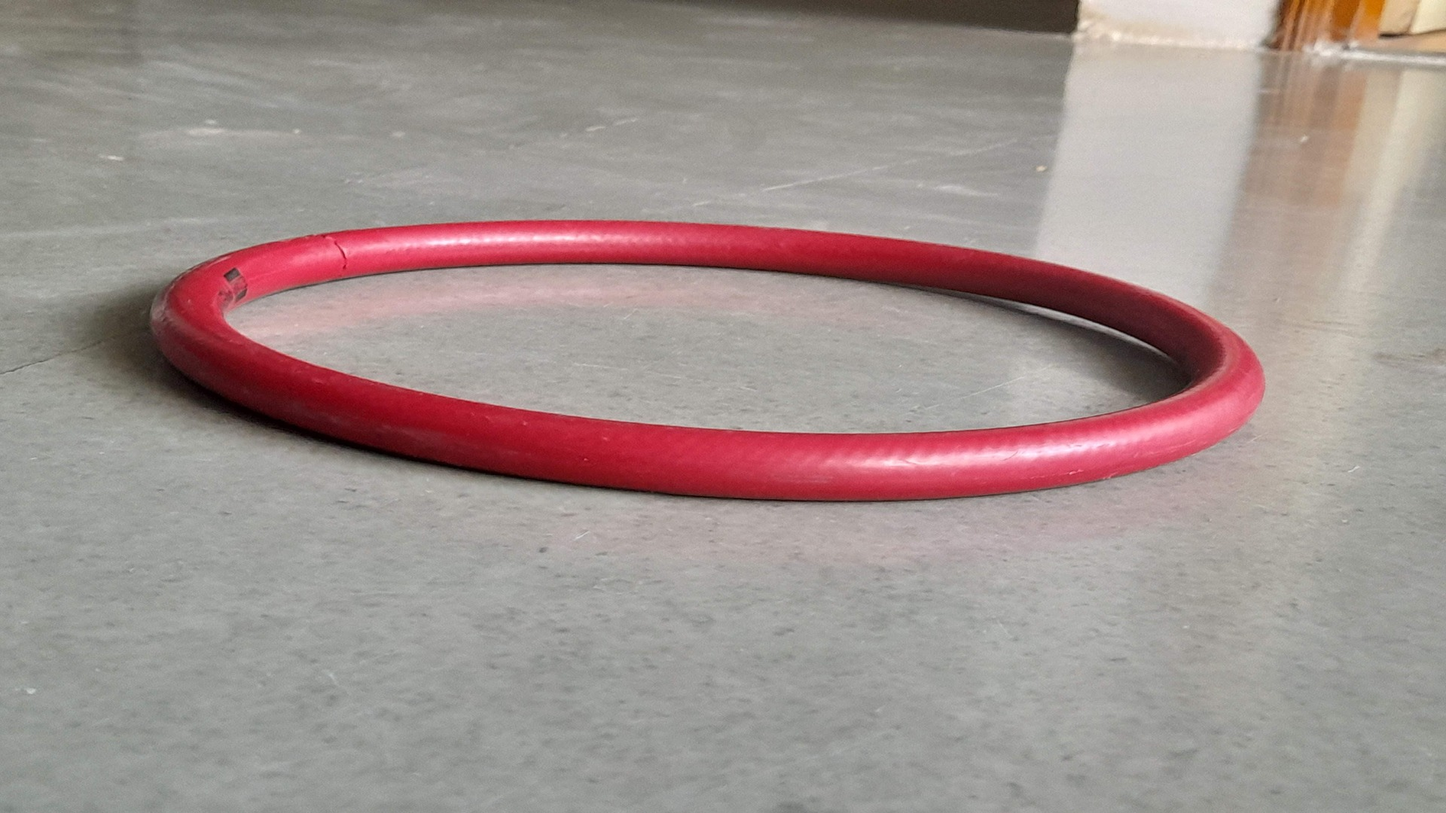Red ring: (153, 218, 1266, 503)
